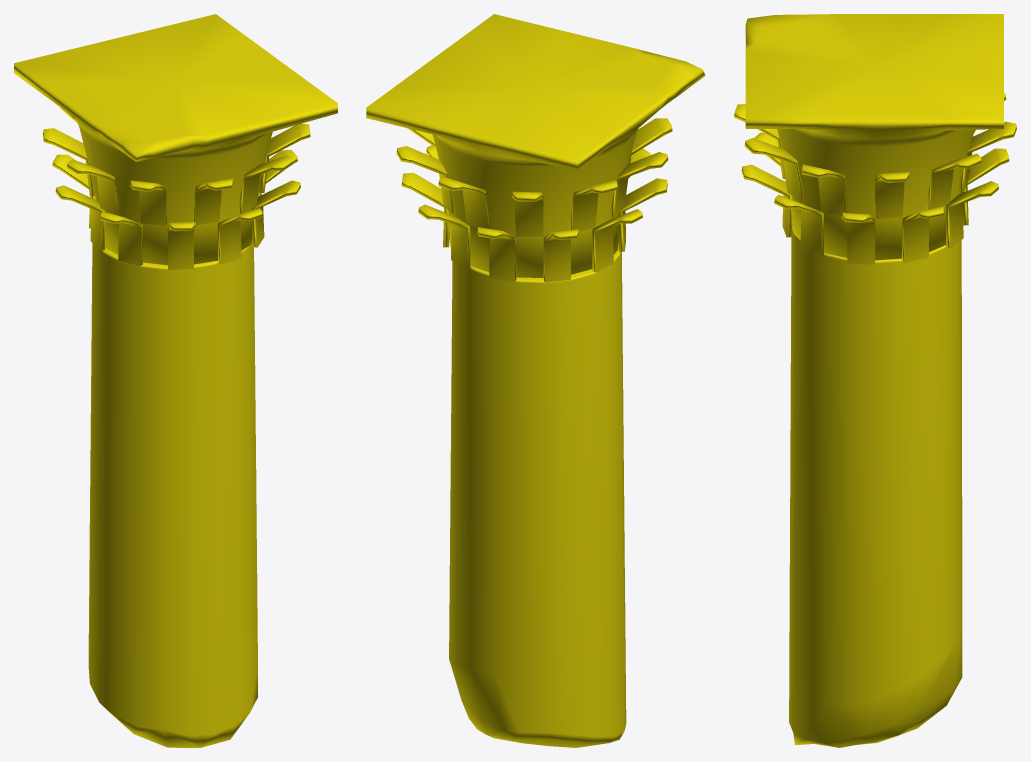
Rendered from Pillar_05_Lod0.fbx.
3 views of the same model, side by side, from view 1: azimuth 30°, elevation 25°; view 2: azimuth 150°, elevation 25°; view 3: azimuth 270°, elevation 25° (orthographic). The views are drawn at different scales.
Visible parts, largest first — view 1: Pillar_05_Lod0; view 2: Pillar_05_Lod0; view 3: Pillar_05_Lod0.
Boxes of the visible parts, x1,y1,x2,y2 form: Pillar_05_Lod0: (14,14,337,747); Pillar_05_Lod0: (366,14,705,747); Pillar_05_Lod0: (734,14,1016,747).
Bounding box in the file's own units: 405 × 1060 × 405.
